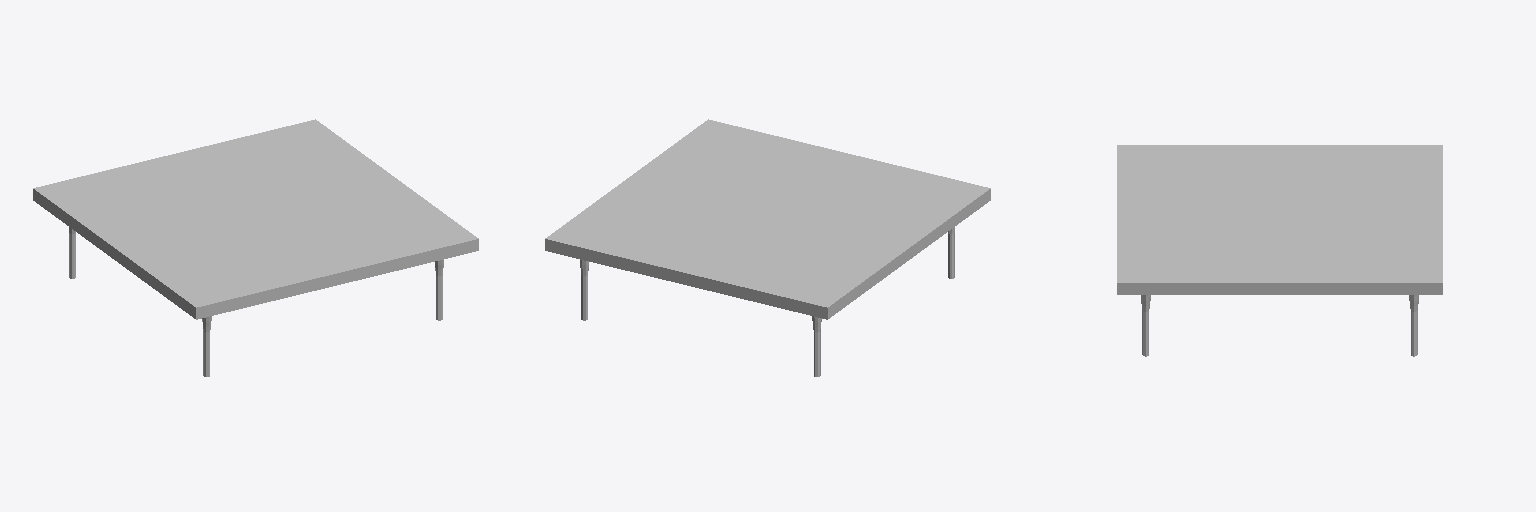
Rendered from nicetable.obj.
3 views of the same model, side by side, from view 1: azimuth 30°, elevation 25°; view 2: azimuth 150°, elevation 25°; view 3: azimuth 270°, elevation 25° (orthographic).
Visible parts, largest first — view 1: Box02; view 2: Box02; view 3: Box02.
Part boxes in pixels (x1,y1,x2,y2): Box02: (33, 119, 478, 376); Box02: (545, 119, 990, 376); Box02: (1117, 145, 1442, 356).
Size of the model in its own units: 90 by 25.82 by 90.